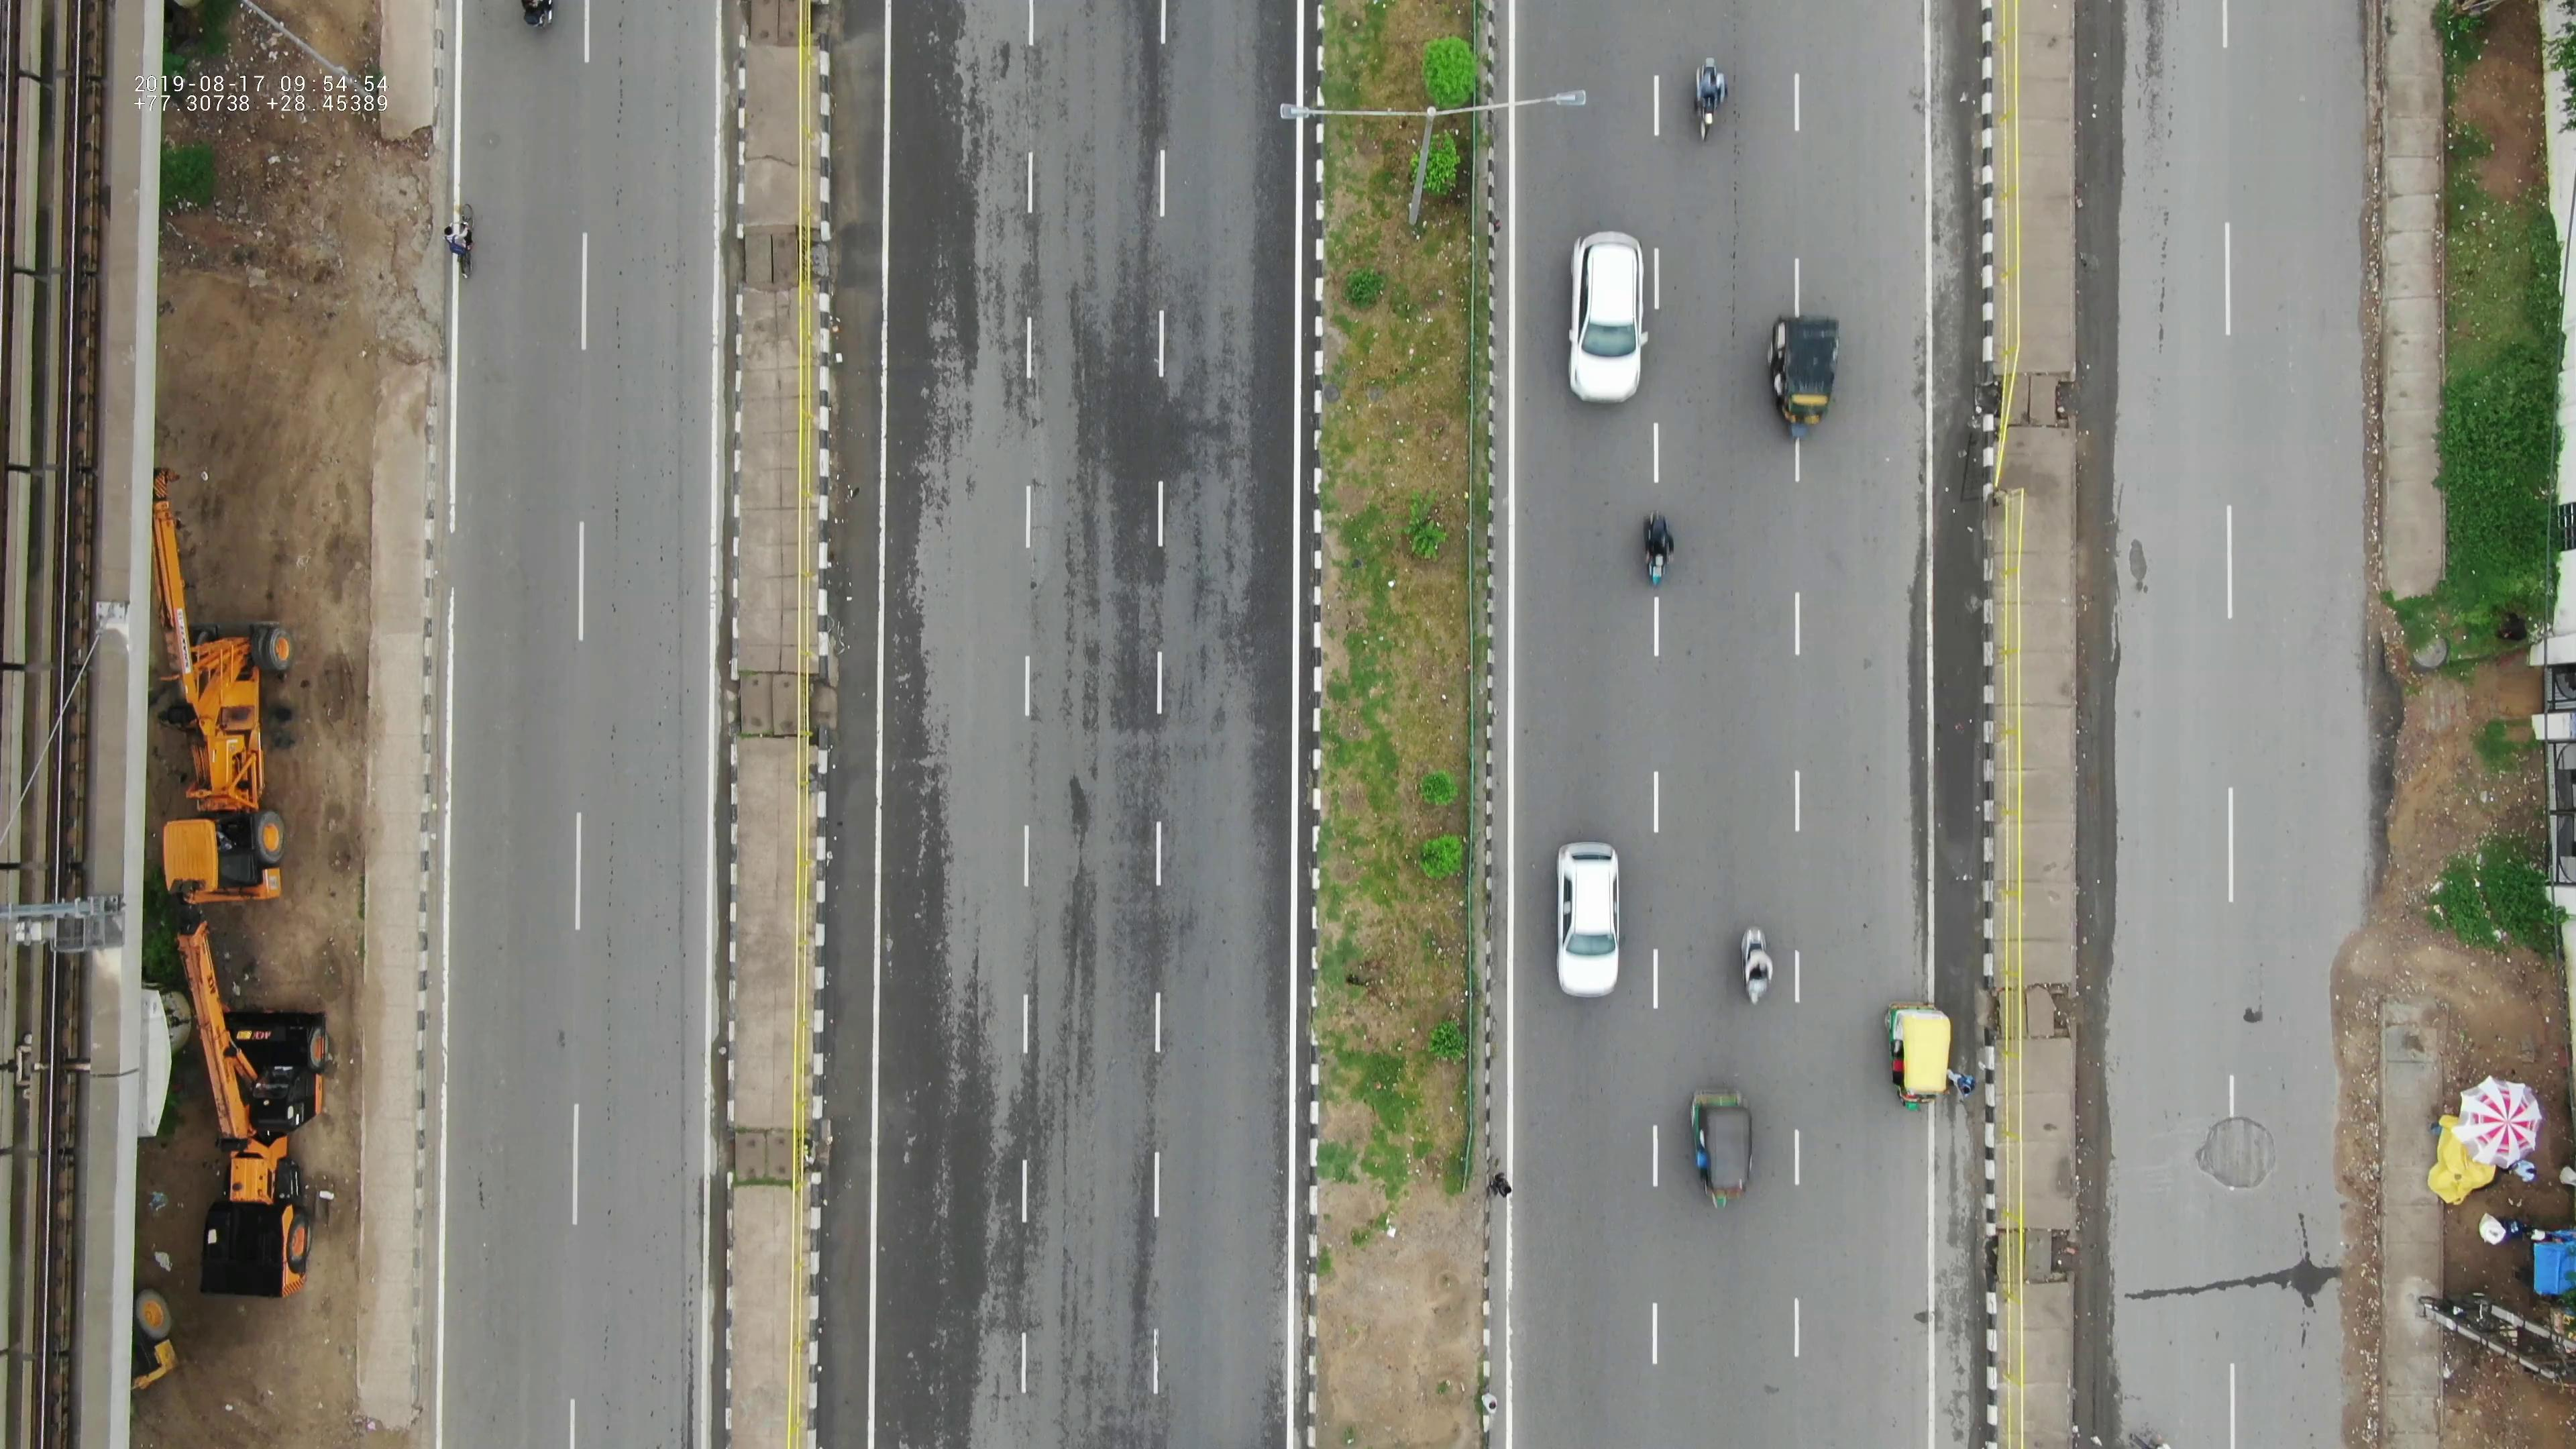Muddy_road: (2318, 1157, 2378, 1440), (2311, 941, 2390, 1141)
